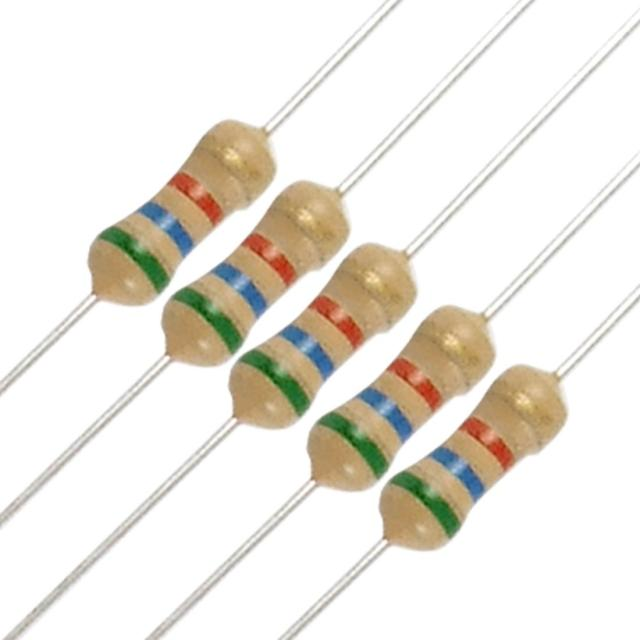Resistor: (88, 88, 273, 291), (385, 362, 568, 552), (235, 241, 416, 432), (315, 302, 496, 493), (166, 179, 347, 369)
